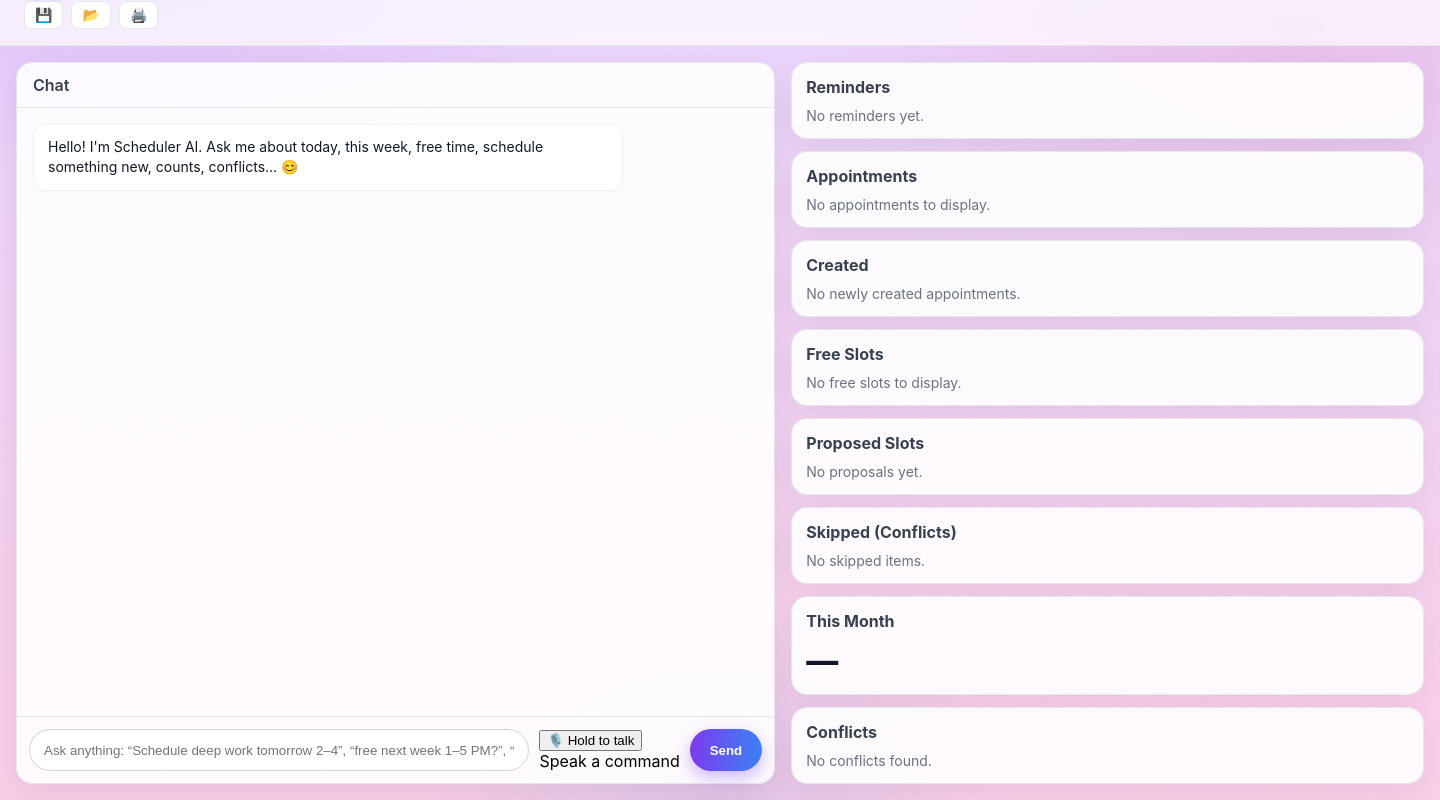
a free-text query mentioning "today" is sent as-is, not silently replaced (regression)
The width and height of the screenshot is (1440, 800).
(page scrolled)
Type "remind me at 5pm today to call Alex" into the field with placeholder "Ask anything" at (279, 750), box [29,729,529,771]
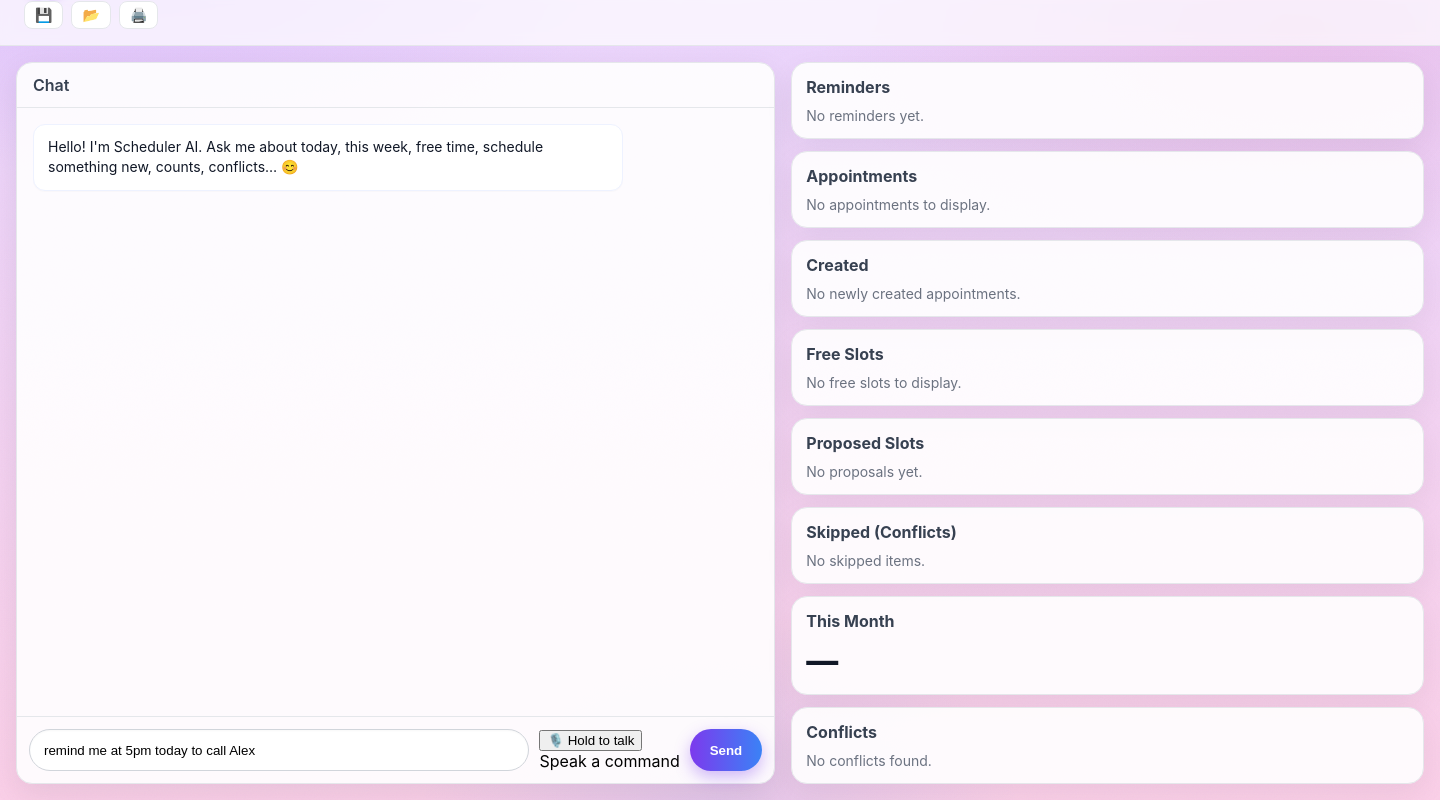
Click the button "Send" at (726, 750), box [690,729,762,771]
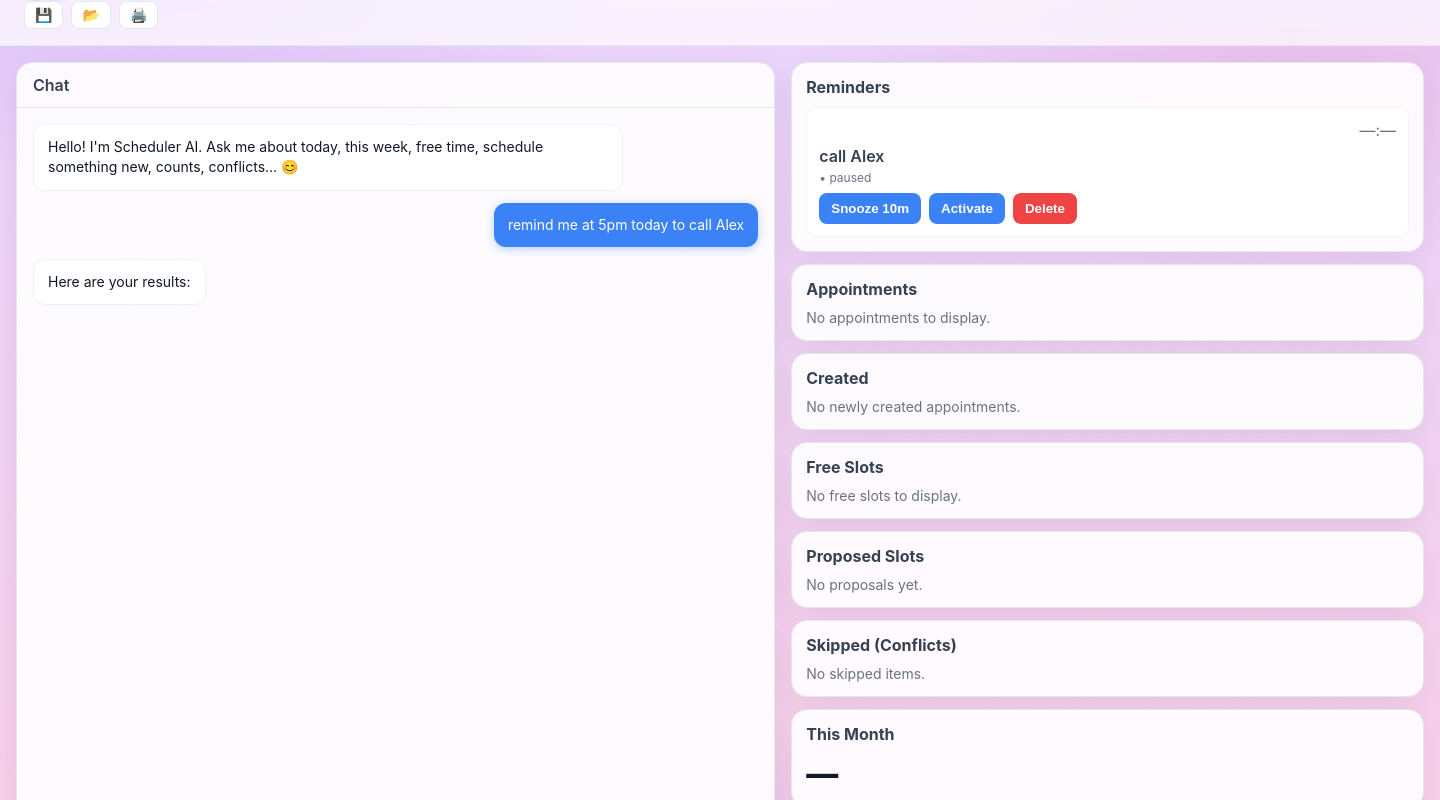
Result: the text "remind me at 5pm today to call Alex" is shown at [494,203,758,247]
